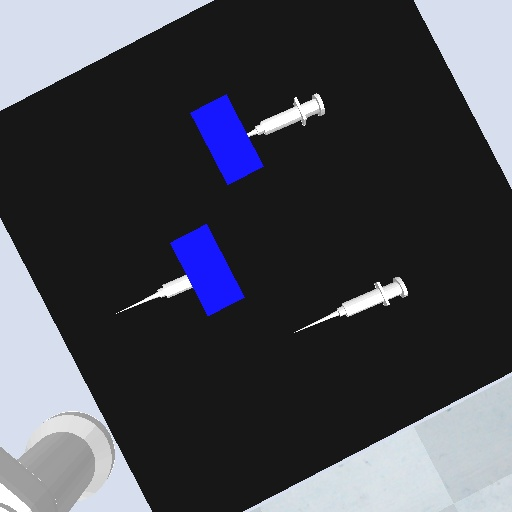jeringuilla: (291, 272, 412, 336), (244, 89, 331, 142), (113, 272, 195, 318)
